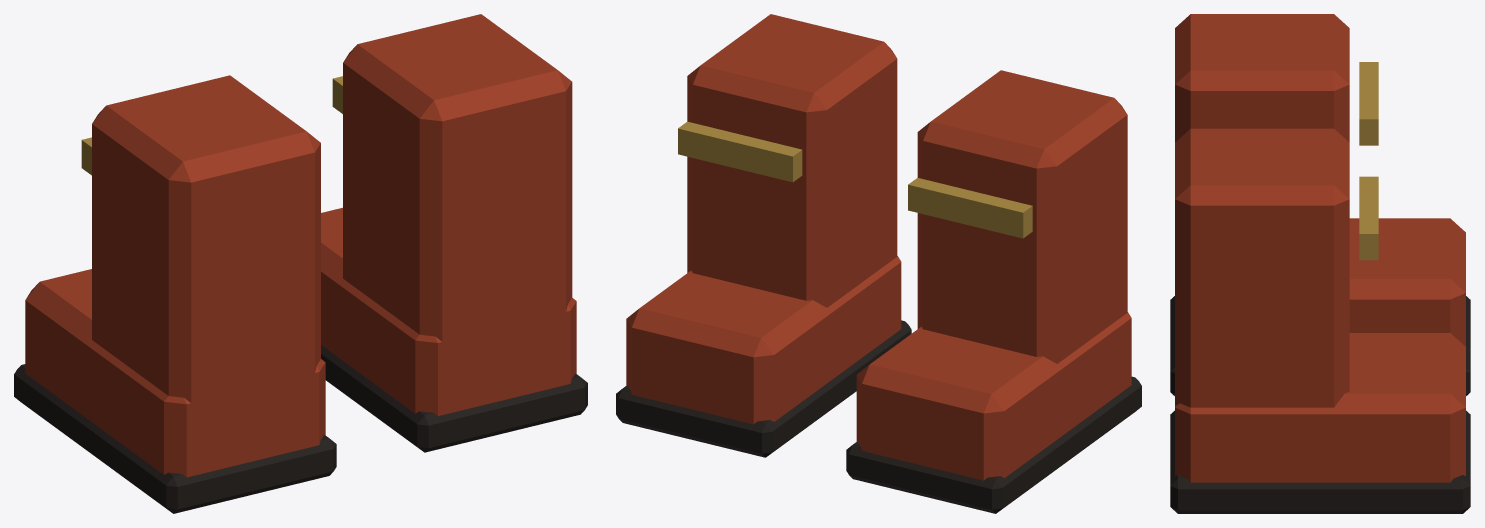
The model's file is HeatBoots.glb.
3 renders of one model, left to right at view 1: azimuth 30°, elevation 25°; view 2: azimuth 150°, elevation 25°; view 3: azimuth 270°, elevation 25°, orthographic. The views are drawn at different scales.
Parts seen in each view (by area): view 1: Body; view 2: Body; view 3: Body.
Part boxes in pixels (x1=…): Body: x1=14, y1=14, x2=587, y2=513; Body: x1=616, y1=14, x2=1141, y2=513; Body: x1=1170, y1=14, x2=1470, y2=513.
Bounding box in the file's own units: 2.35 × 1.83 × 1.55.
